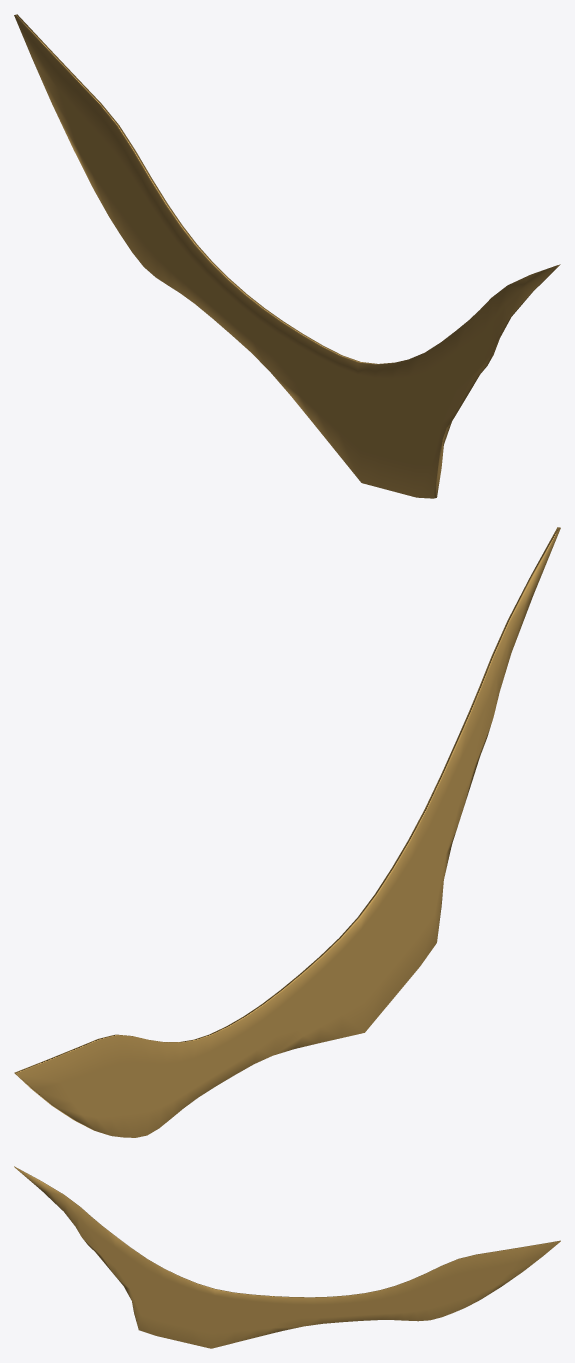
3 views of the same model, one above another, from view 1: azimuth 30°, elevation 25°; view 2: azimuth 150°, elevation 25°; view 3: azimuth 270°, elevation 25° (orthographic). The views are drawn at different scales.
Parts seen in each view (by area): view 1: 项韧带; view 2: 项韧带; view 3: 项韧带.
Boxes of the visible parts, bbox=[...] form: 项韧带: bbox=[14, 14, 560, 498]; 项韧带: bbox=[14, 527, 560, 1137]; 项韧带: bbox=[14, 1166, 560, 1348].
Size of the model in its own units: 0.000737 by 0.0749 by 0.2041.
